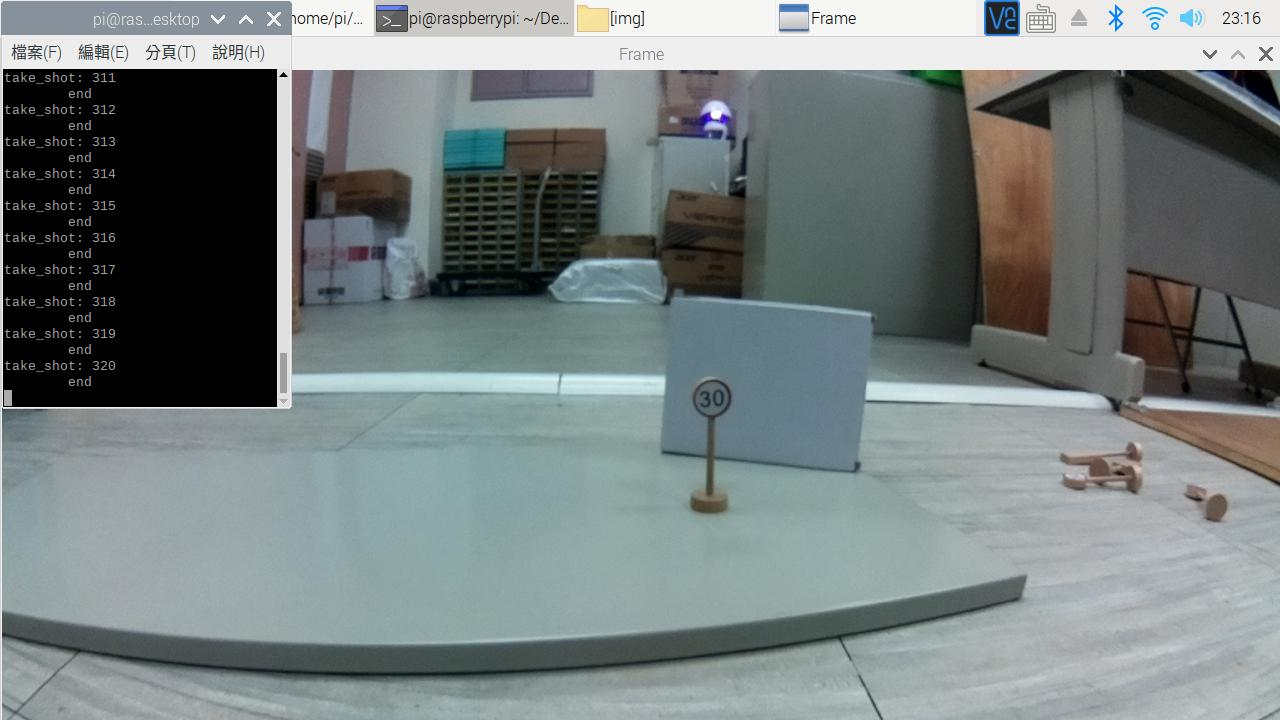Speed30: (678, 369, 759, 429)
